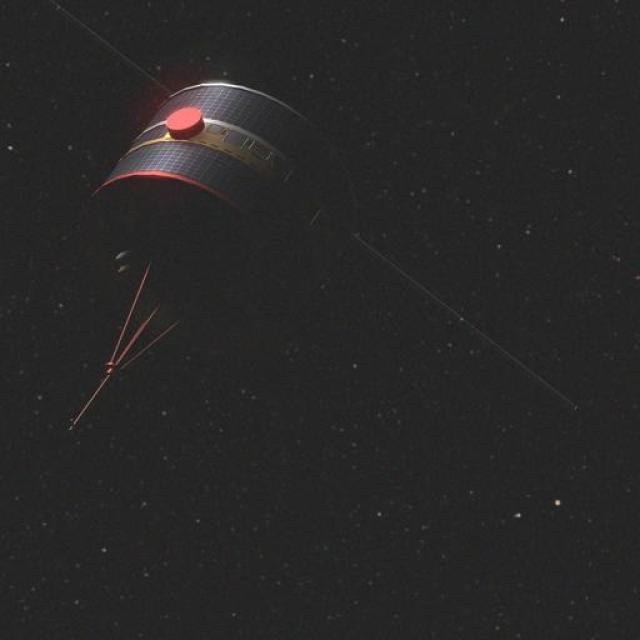double_start: (78, 55, 372, 362)
